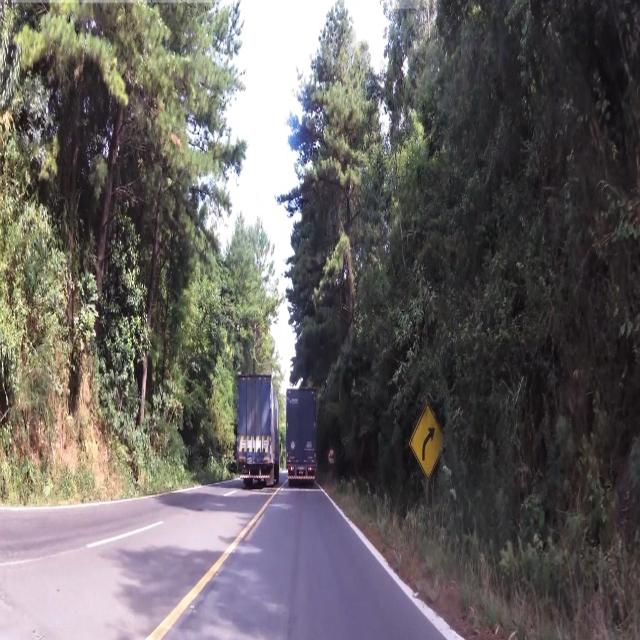A-2b: (408, 394, 449, 486)
